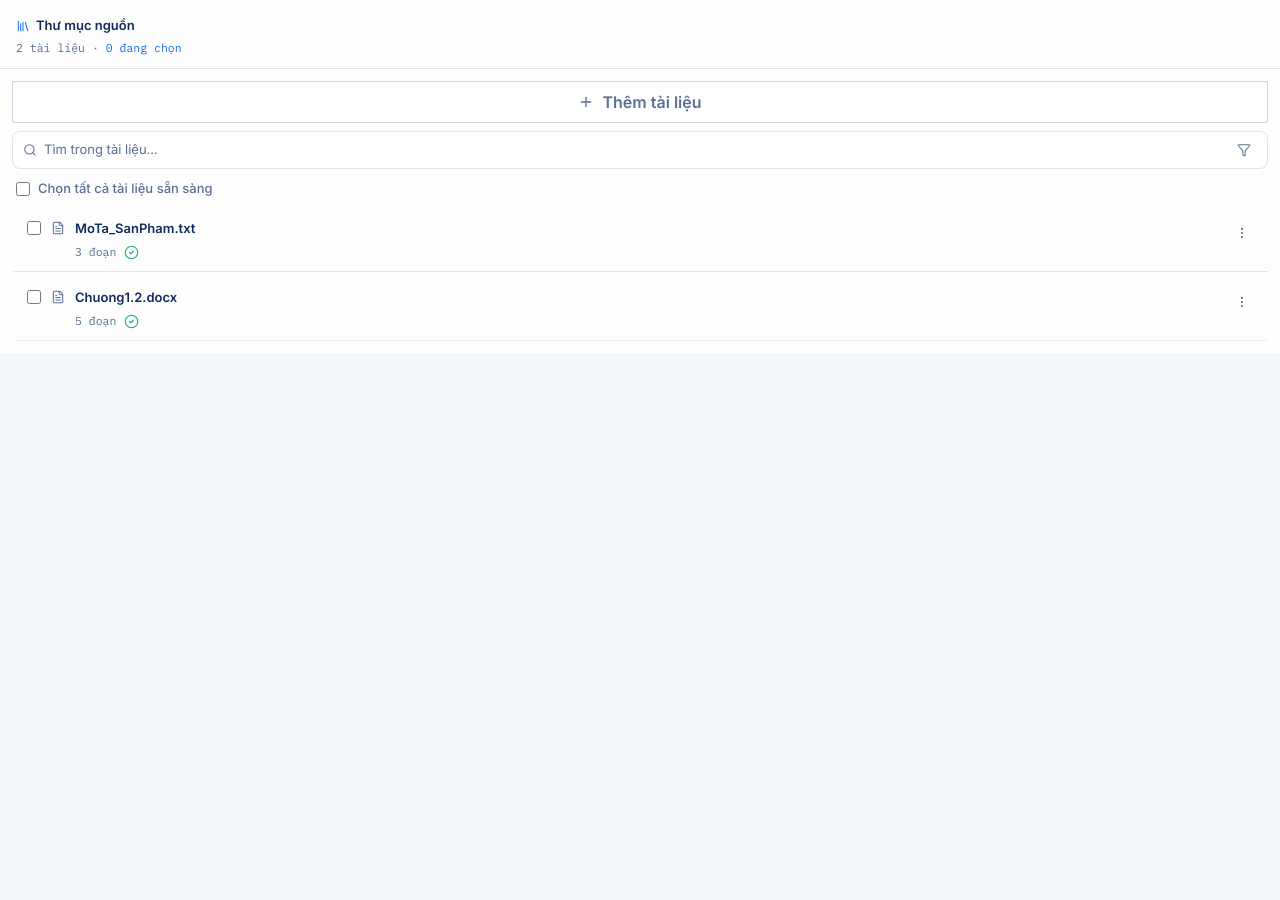
SidebarLeft filter popover › closes on outside click
Click the button with class "source-filter-trigger". click: (1244, 150)
box: top-left (1228, 134), bottom-right (1260, 166)
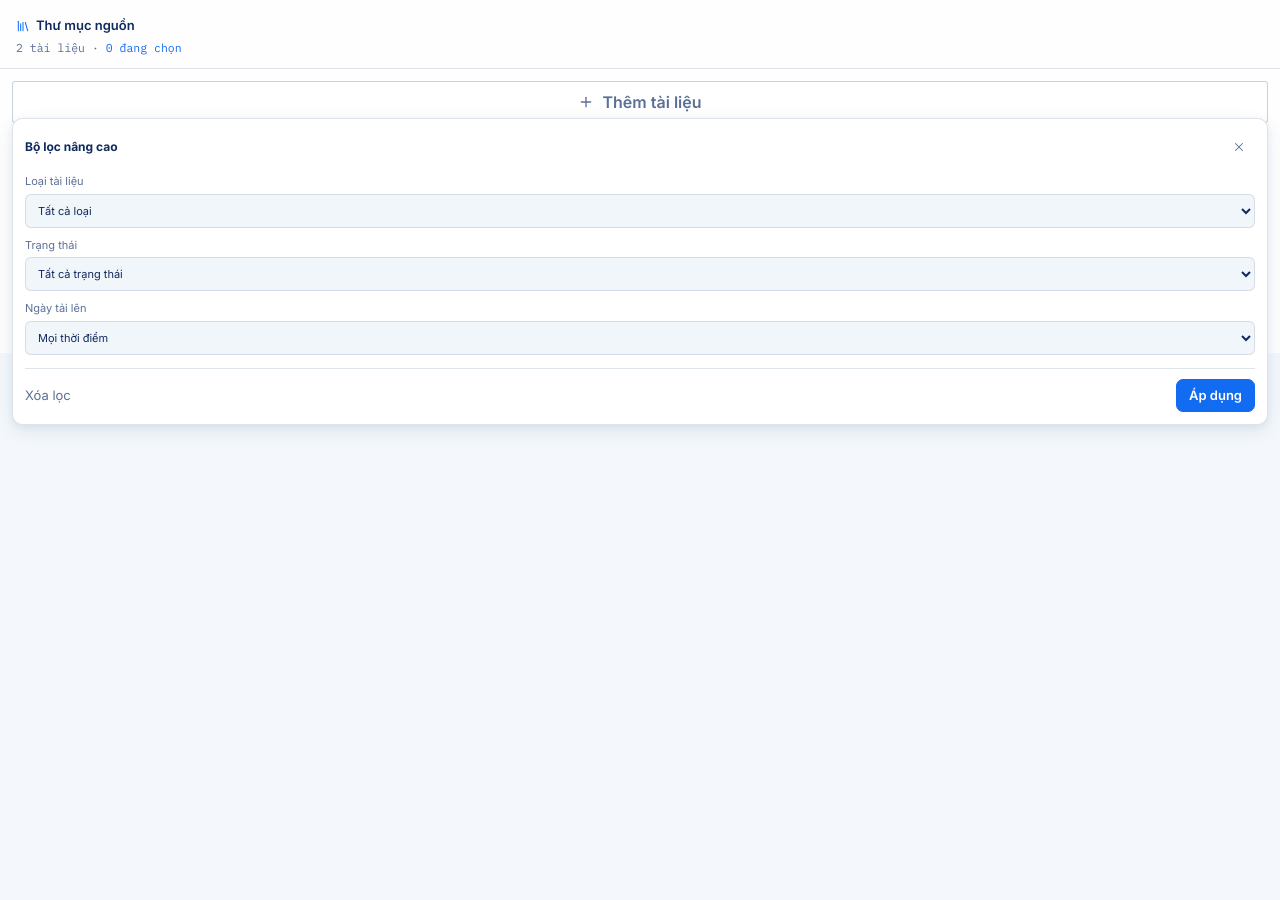
Now the dialog with class "source-filter-popover" is shown, box top-left (12, 118), bottom-right (1268, 425)
Press the mouse on the element that starts with "Thư mục nguồn" at (640, 450), box top-left (0, 0), bottom-right (1279, 899)
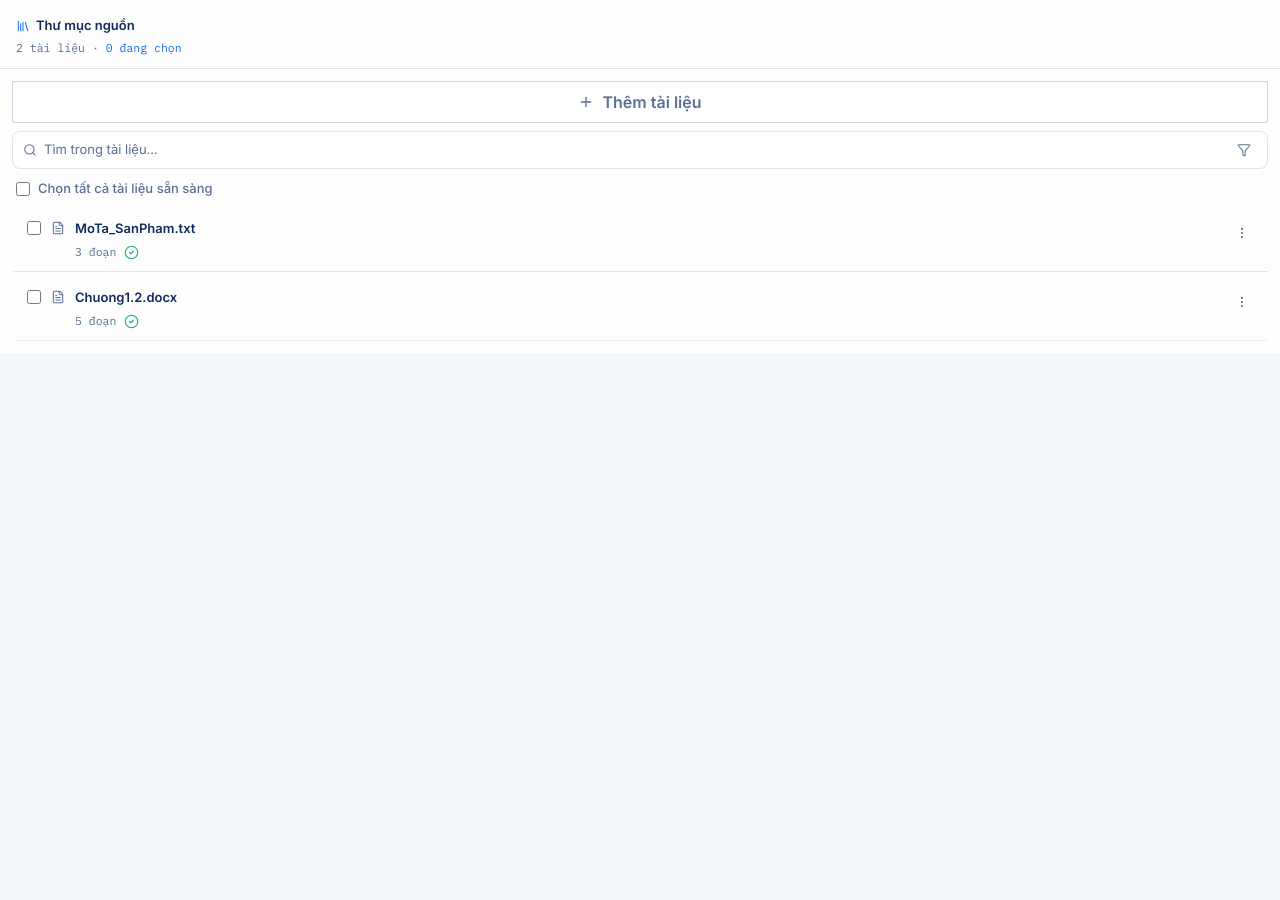
Now the dialog with class "source-filter-popover" is gone
